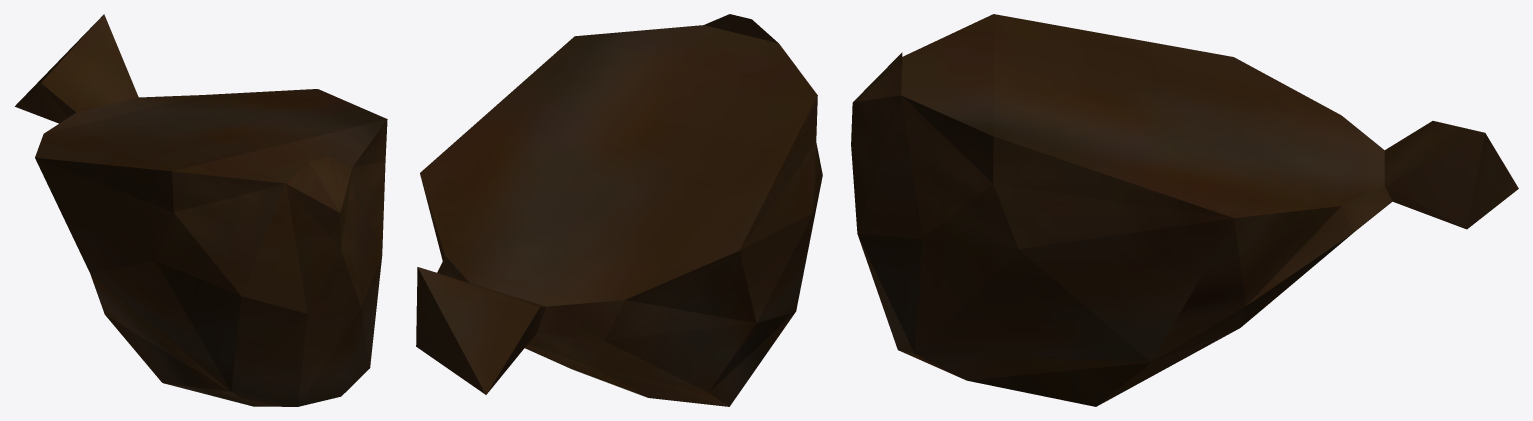
Rendered from CHUSTA_BR.glb.
3 renders of one model, left to right at view 1: azimuth 30°, elevation 25°; view 2: azimuth 150°, elevation 25°; view 3: azimuth 270°, elevation 25°, orthographic. The views are drawn at different scales.
Visible parts, largest first — view 1: CHUSTA_BR; view 2: CHUSTA_BR; view 3: CHUSTA_BR.
Boxes of the visible parts, <box> form: CHUSTA_BR: <box>15,14,387,406</box>; CHUSTA_BR: <box>416,14,822,406</box>; CHUSTA_BR: <box>851,14,1518,406</box>.
Bounding box in the file's own units: 0.1928 × 0.18 × 0.3386.
1 material, 1 textured.
